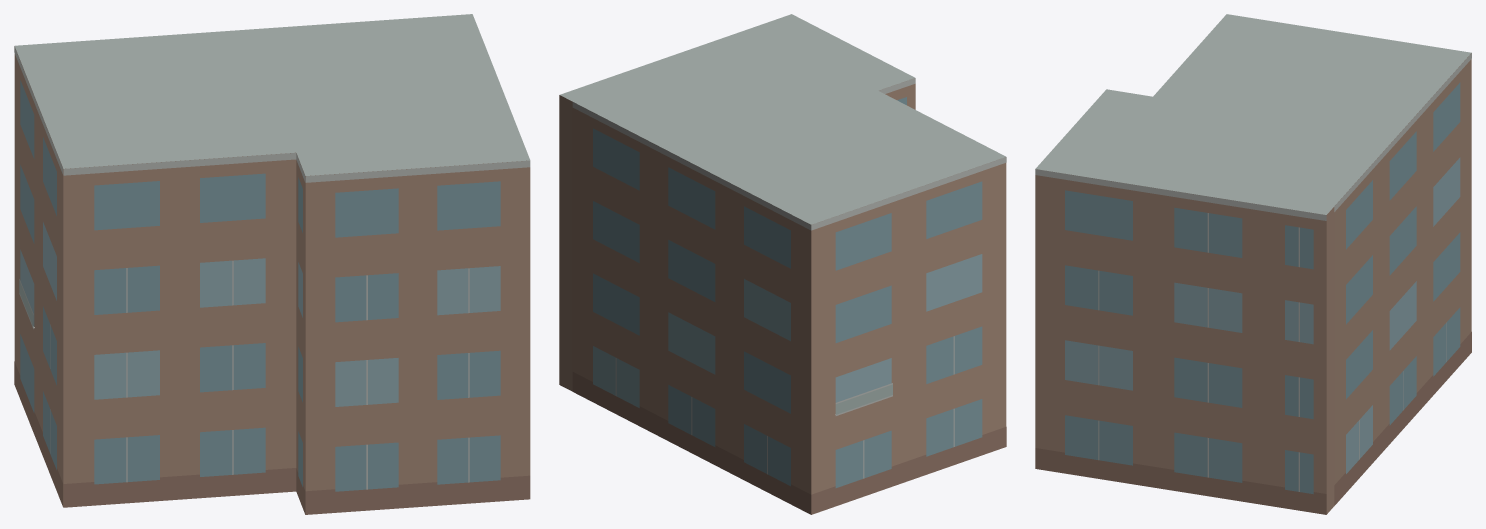
The model's file is survey-upis-32809160.glb.
3 renders of one model, left to right at view 1: azimuth 30°, elevation 25°; view 2: azimuth 150°, elevation 25°; view 3: azimuth 270°, elevation 25°, orthographic. The views are drawn at different scales.
Parts seen in each view (by area): view 1: survey-upis-32809160.tmp; view 2: survey-upis-32809160.tmp; view 3: survey-upis-32809160.tmp.
Boxes of the visible parts, bbox=[...] form: survey-upis-32809160.tmp: bbox=[14, 14, 530, 514]; survey-upis-32809160.tmp: bbox=[559, 14, 1006, 514]; survey-upis-32809160.tmp: bbox=[1035, 14, 1471, 514].
Bounding box in the file's own units: 17.56 × 12.2 × 16.11.
